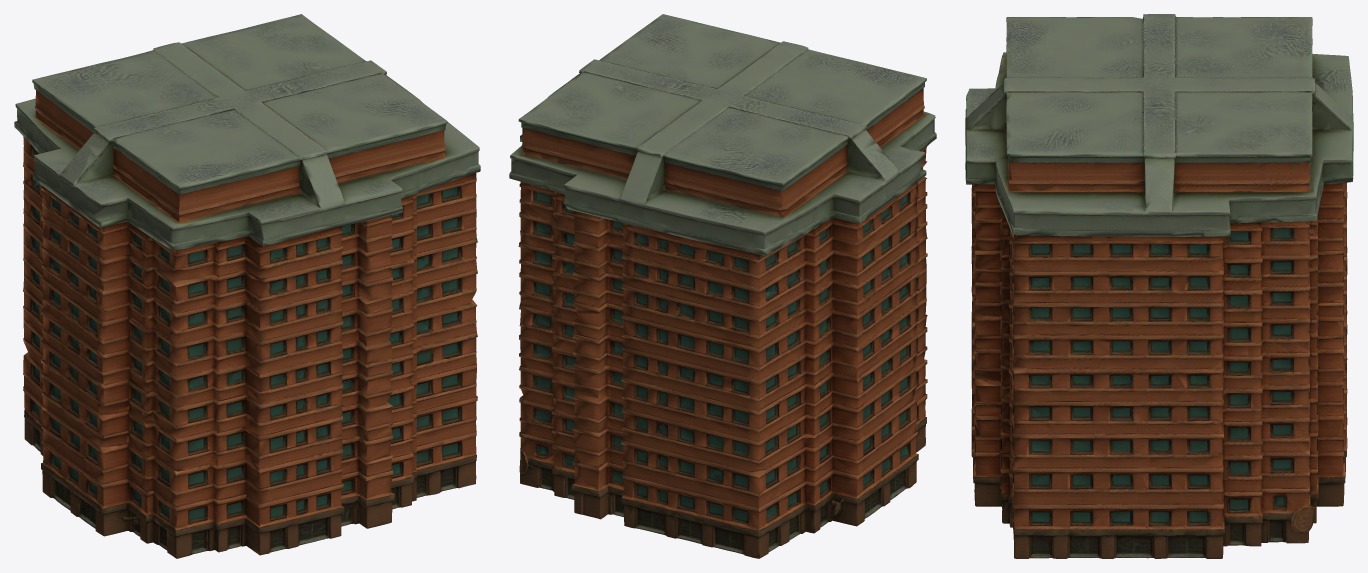
The model's file is biilding3d3.glb.
3 renders of one model, left to right at view 1: azimuth 30°, elevation 25°; view 2: azimuth 150°, elevation 25°; view 3: azimuth 270°, elevation 25°, orthographic. The views are drawn at different scales.
Visible parts, largest first — view 1: tripo_node_3ccc61f7-0214-4552-b13b-e57632725759; view 2: tripo_node_3ccc61f7-0214-4552-b13b-e57632725759; view 3: tripo_node_3ccc61f7-0214-4552-b13b-e57632725759.
Part boxes in pixels (x1=…): tripo_node_3ccc61f7-0214-4552-b13b-e57632725759: x1=14, y1=14, x2=480, y2=558; tripo_node_3ccc61f7-0214-4552-b13b-e57632725759: x1=509, y1=14, x2=936, y2=558; tripo_node_3ccc61f7-0214-4552-b13b-e57632725759: x1=965, y1=14, x2=1353, y2=558.
Size of the model in its own units: 0.9703 by 1 by 0.9021.
1 material, 1 textured.
